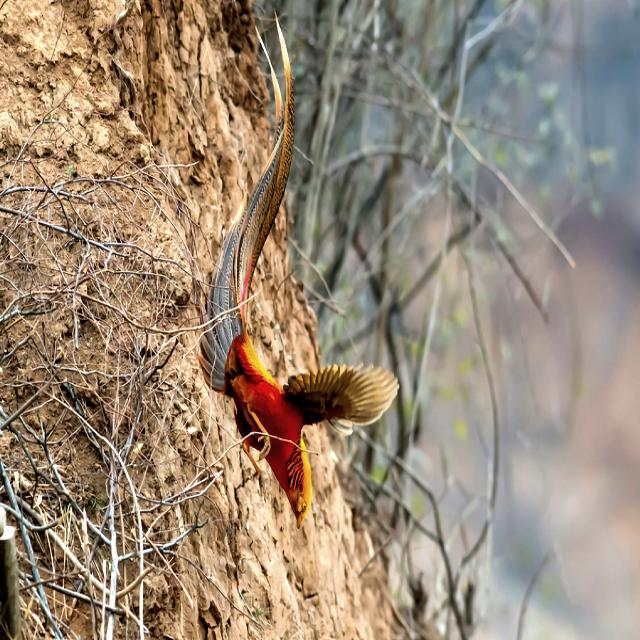Chrysolophus pictus feather: (201, 30, 294, 390)
